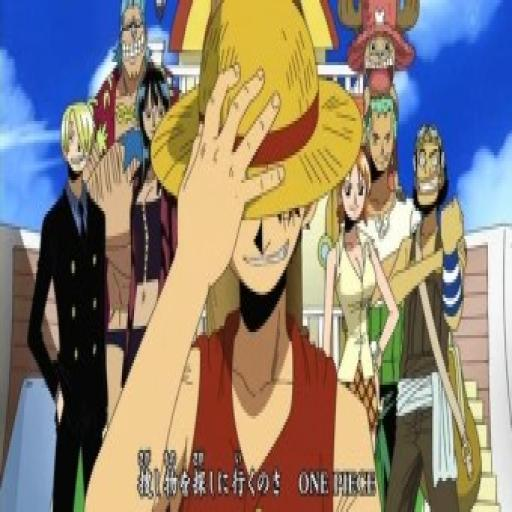Luffy: (157, 0, 339, 301)
Nami: (336, 146, 374, 228)
NicoRobin: (136, 65, 170, 147)
Usopp: (413, 121, 446, 212)
Zoro: (360, 93, 402, 174)
sanji: (57, 93, 96, 187)
